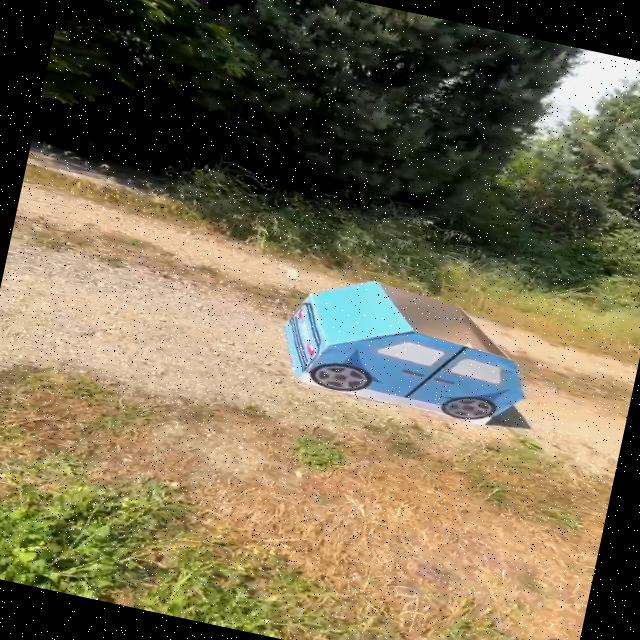blue_car: (243, 251, 558, 468)
